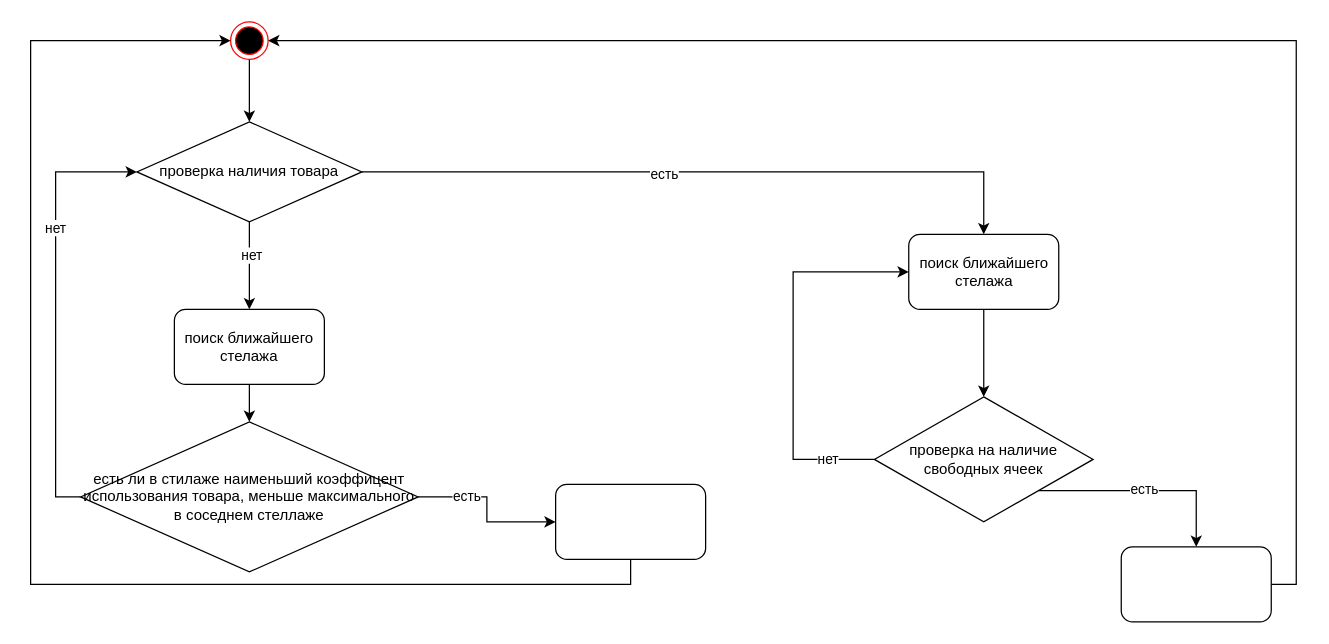
Image size: 1329x644. Some labels were removed from this diagram. Here are the shapes that lost their labels. From the top down, the centre of each, then its label:
point 630,521: переместить товар в следующий стеллаж
point 1195,584: разместить товар в ячейку
